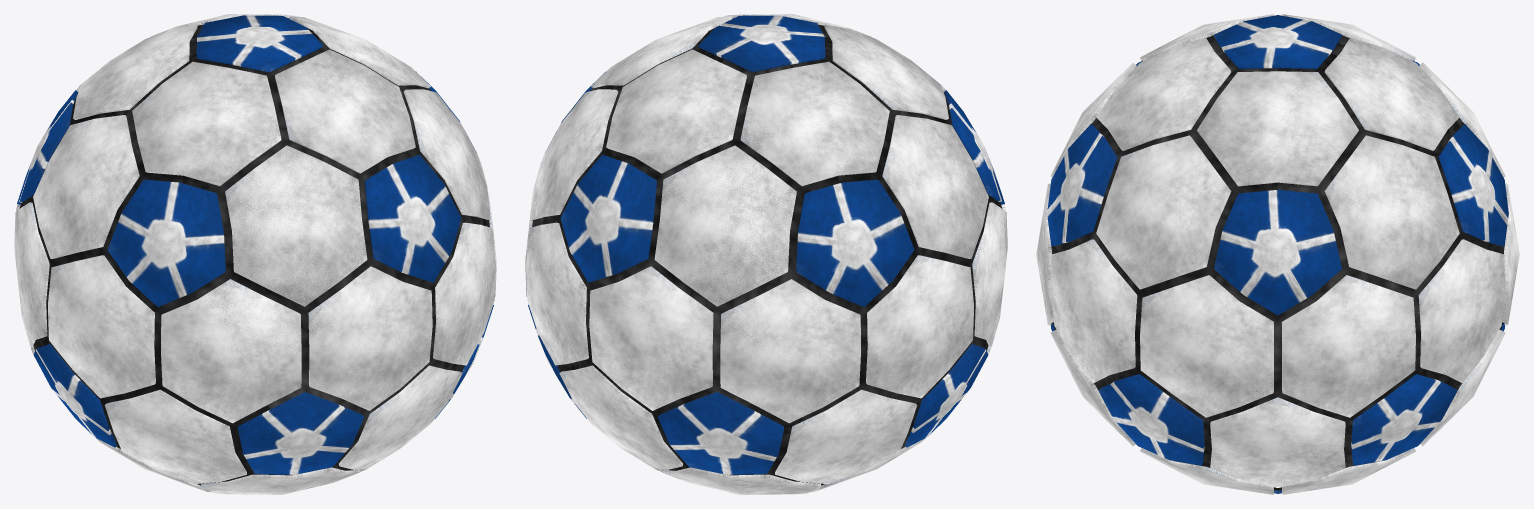
The model's file is blue_lock_soccer_ball.glb.
The picture shows the model from 3 angles, left to right: view 1: azimuth 30°, elevation 25°; view 2: azimuth 150°, elevation 25°; view 3: azimuth 270°, elevation 25°; orthographic projection.
Parts seen in each view (by area): view 1: Material_001-material; view 2: Material_001-material; view 3: Material_001-material.
Part boxes in pixels (x1=…): Material_001-material: x1=14, y1=14, x2=496, y2=494; Material_001-material: x1=525, y1=14, x2=1007, y2=494; Material_001-material: x1=1036, y1=14, x2=1519, y2=494.
Bounding box in the file's own units: 1.84 × 1.86 × 1.85.
1 material, 1 textured.
